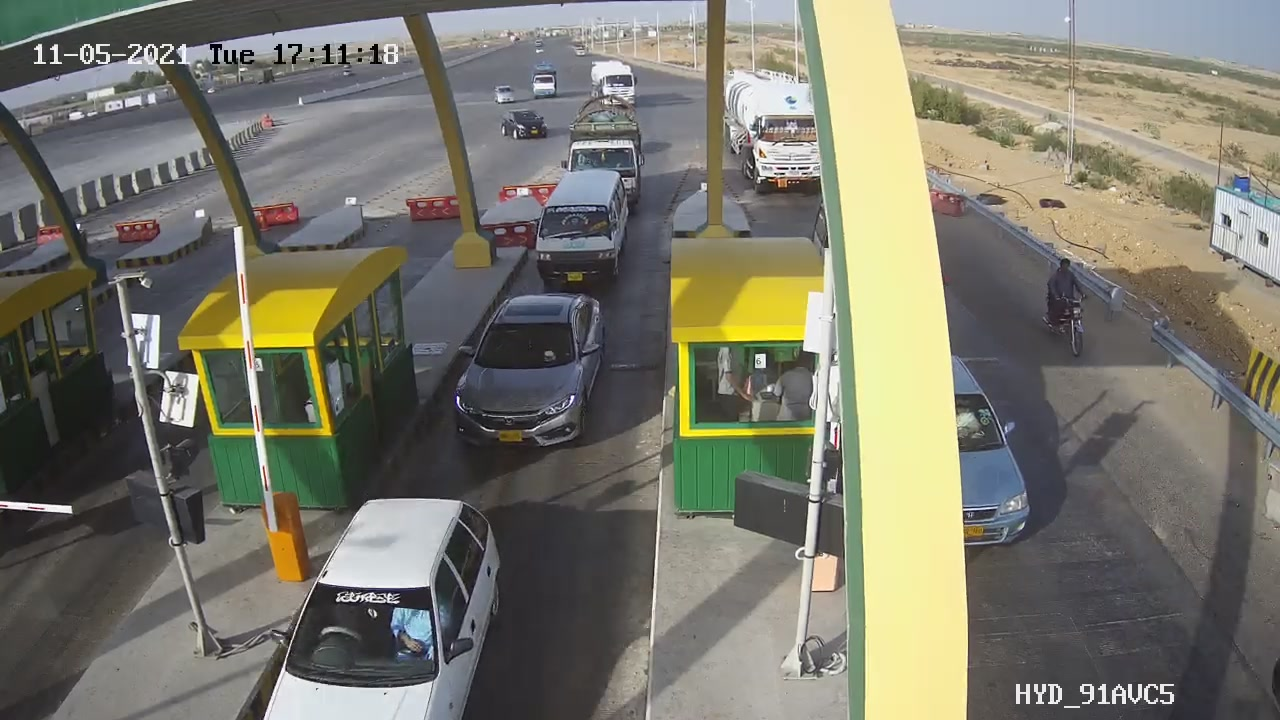F1: (426, 275, 631, 486)
